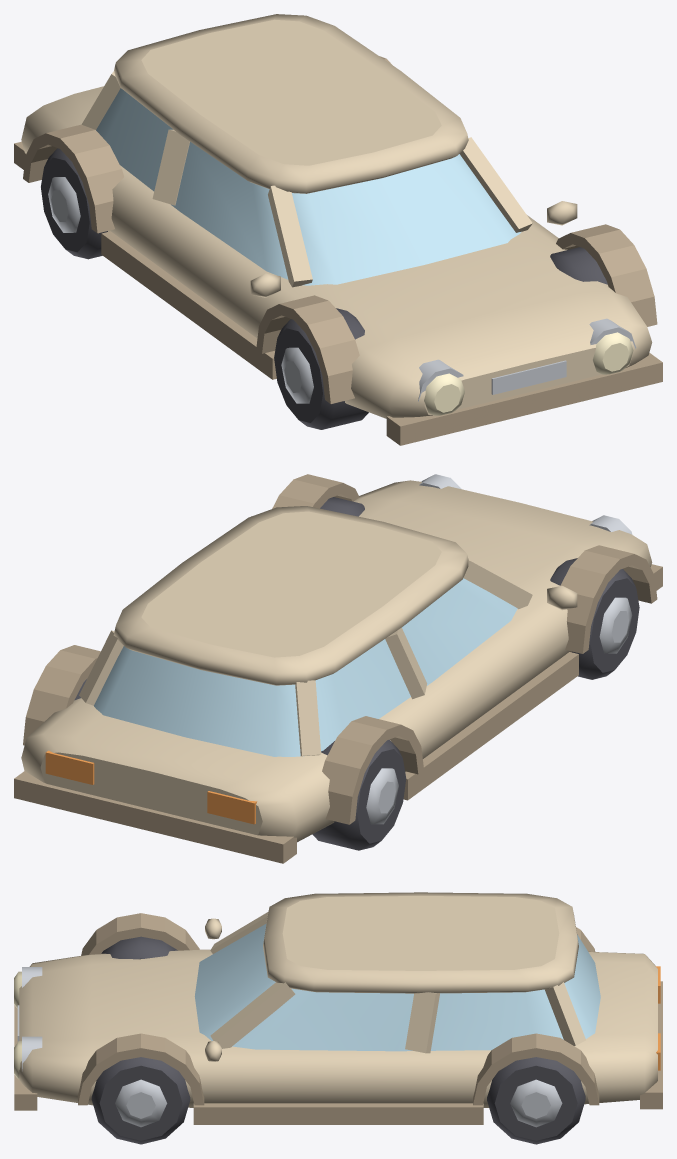
File: building.car.glb
The picture shows the model from 3 angles, top to bottom: view 1: azimuth 30°, elevation 25°; view 2: azimuth 150°, elevation 25°; view 3: azimuth 270°, elevation 25°; orthographic projection. The views are drawn at different scales.
Visible parts, largest first — view 1: Paint, Glass, PaintDark, Rubber, Metal, Light; view 2: Paint, PaintDark, Glass, Rubber, Metal, Ember; view 3: Paint, Glass, PaintDark, Rubber, Metal, Light.
Part boxes in pixels (x1,y1,x2,y2): Paint: (21,14,652,418); Glass: (96,88,521,285); PaintDark: (14,56,662,445); Rubber: (41,148,607,429); Metal: (48,177,636,403); Light: (424,332,633,415); Paint: (21,480,652,842); PaintDark: (14,474,662,863); Glass: (94,578,517,756); Rubber: (74,497,639,850); Metal: (366,474,632,824); Ember: (45,750,257,824); Paint: (19,892,657,1107); Glass: (194,923,600,1051); PaintDark: (14,913,662,1124); Rubber: (91,936,585,1144); Metal: (17,967,562,1127); Light: (14,971,21,1079).
Size of the model in its own units: 0.972 by 0.5 by 1.97.
